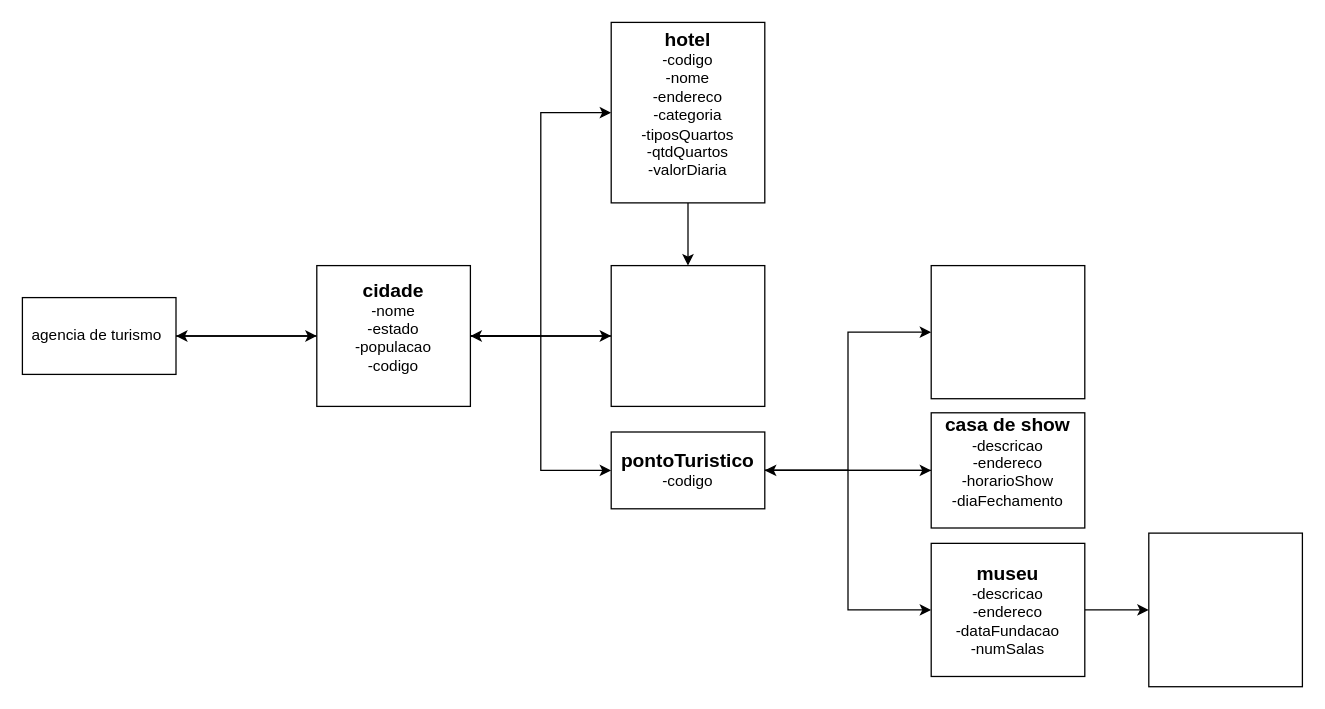
Image size: 1325x709. Some labels were removed from this diagram. The centre of each missing label's shape, as x and y in pixels:
"fundador -codigo -nome -dataNascimento -dataMorte -nacionalidade -profissao" belongs at (1225,609).
"igreja -descricao -endereco -dataConstrucao -estiloConstrucao" belongs at (1007,331).
"restaurante -codigo -nome -endereco -categoria" belongs at (687,335).
